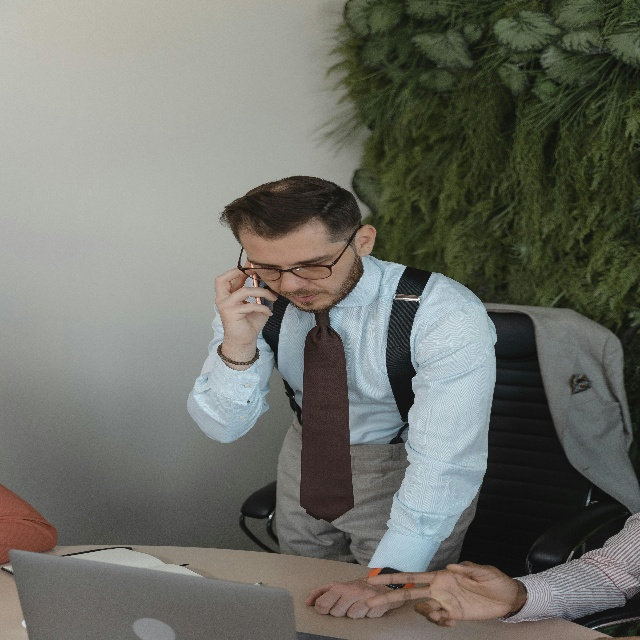Gafas: (236, 257, 332, 287)
Sin_guantes: (365, 554, 521, 629), (213, 266, 278, 344), (304, 577, 401, 616)
